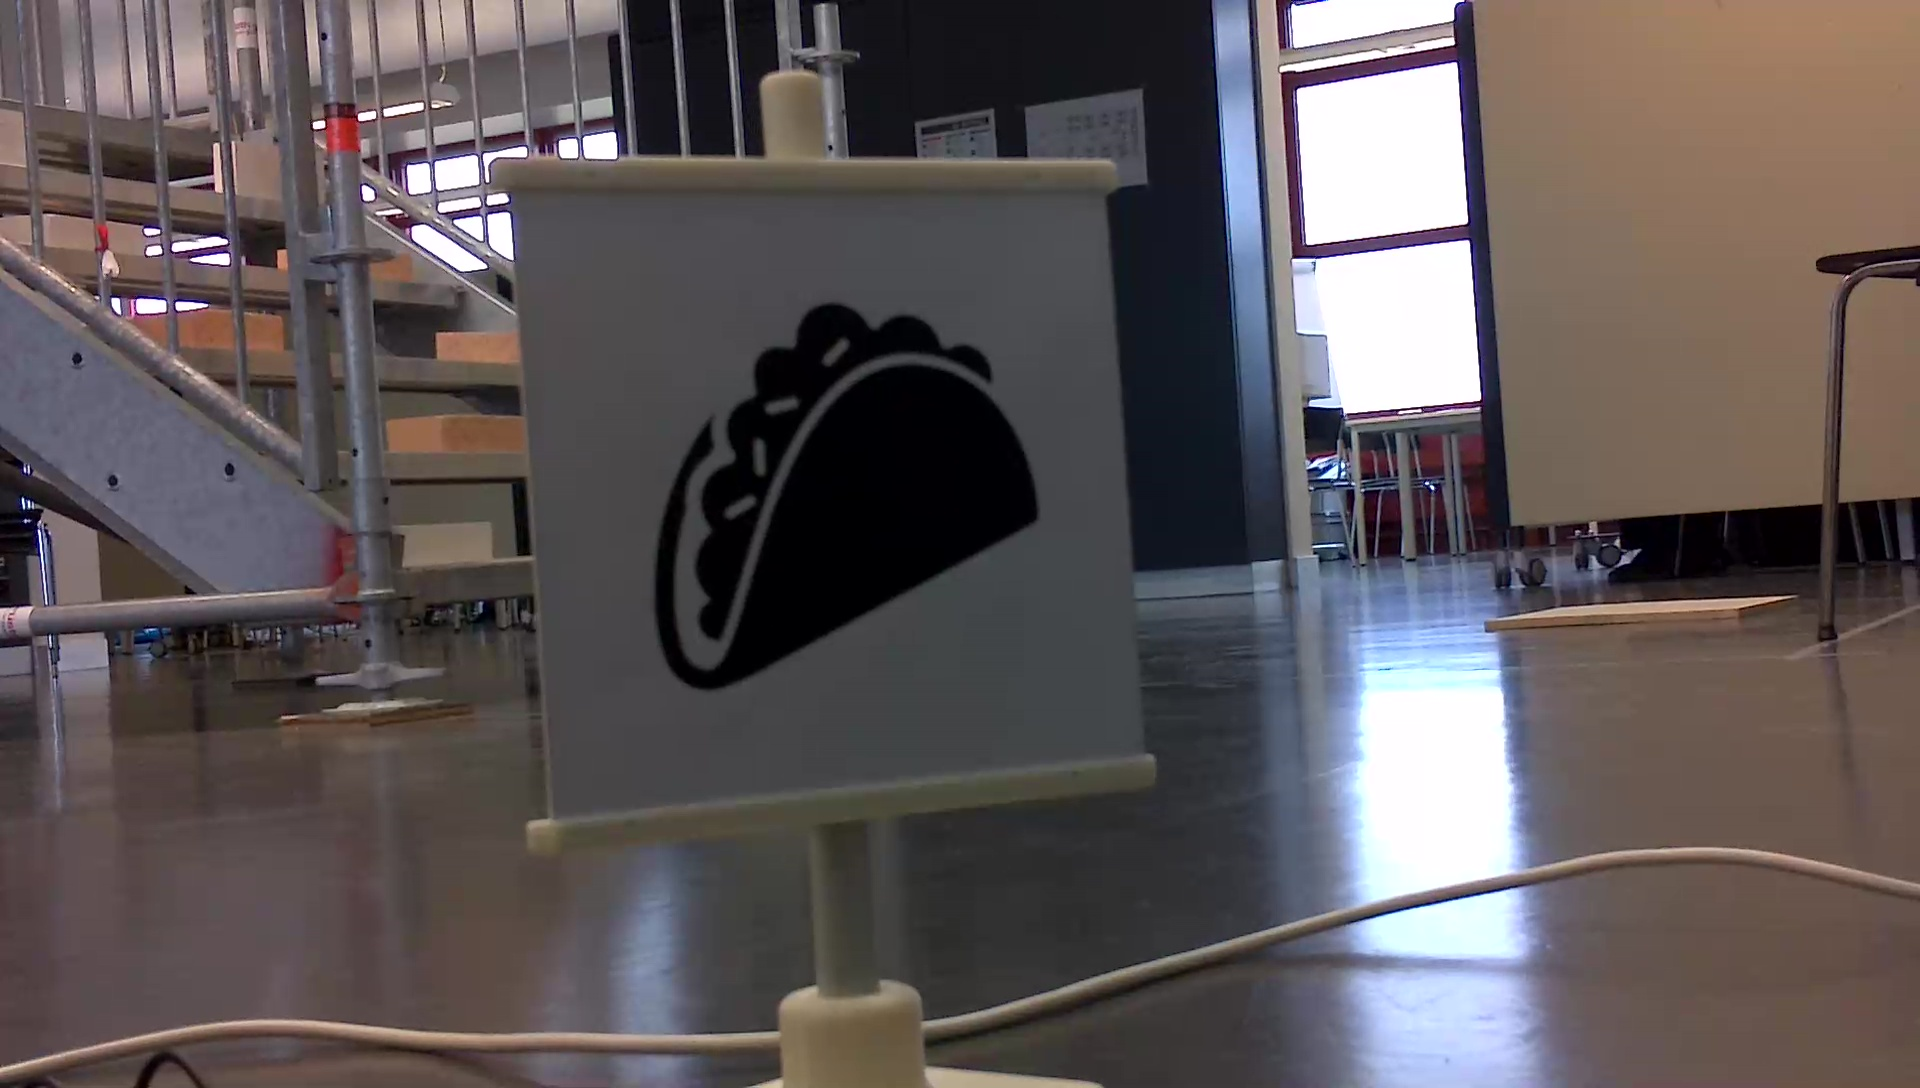brick: (392, 415, 522, 454), (404, 525, 489, 563), (438, 332, 520, 363)
taco: (634, 287, 1055, 702)
